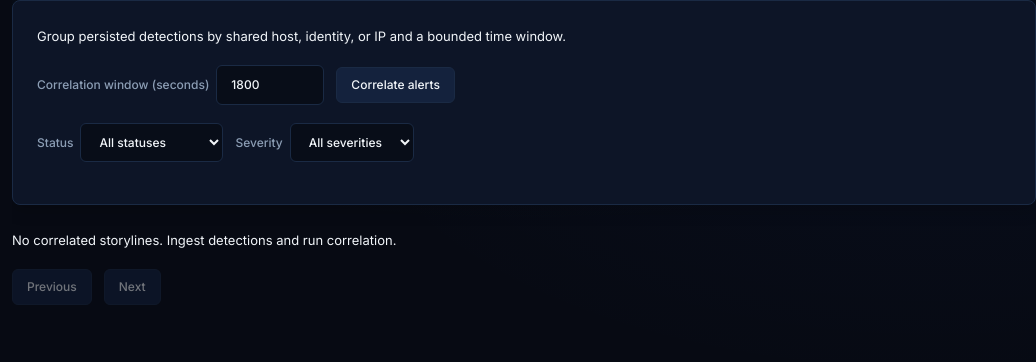
Scenario: loads backend data, correlates and reports completion
The width and height of the screenshot is (1036, 362).
Expected: the text "No correlated storylines" is shown, left=12, top=232, right=396, bottom=248
Step 1. Replace the text in the number field labelled "Correlation window (seconds)" with "600" → (270, 85), box left=216, top=65, right=324, bottom=105
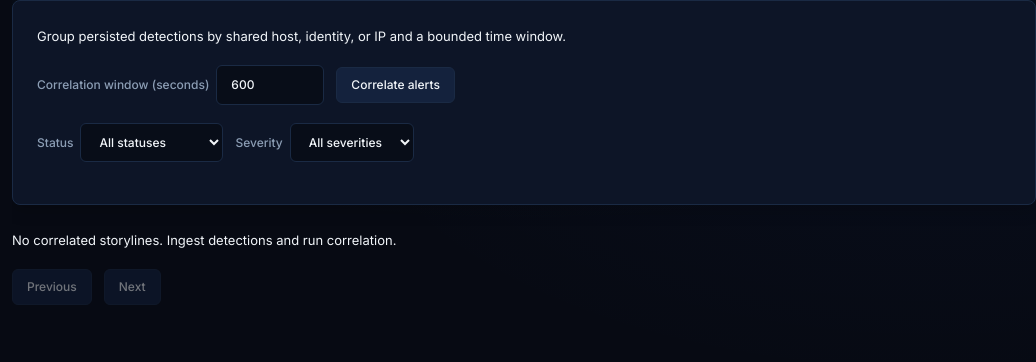
Step 2. Click the button "Correlate alerts" → (396, 85), box left=336, top=67, right=455, bottom=103
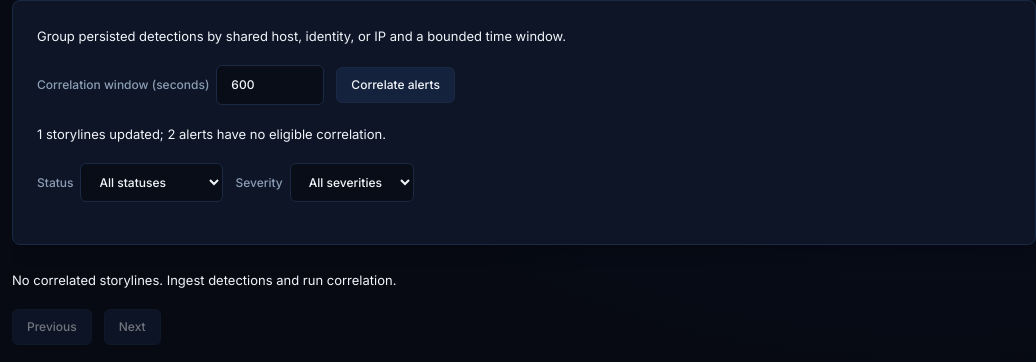
Expected: the message shows "1 storylines updated", left=37, top=126, right=386, bottom=142
